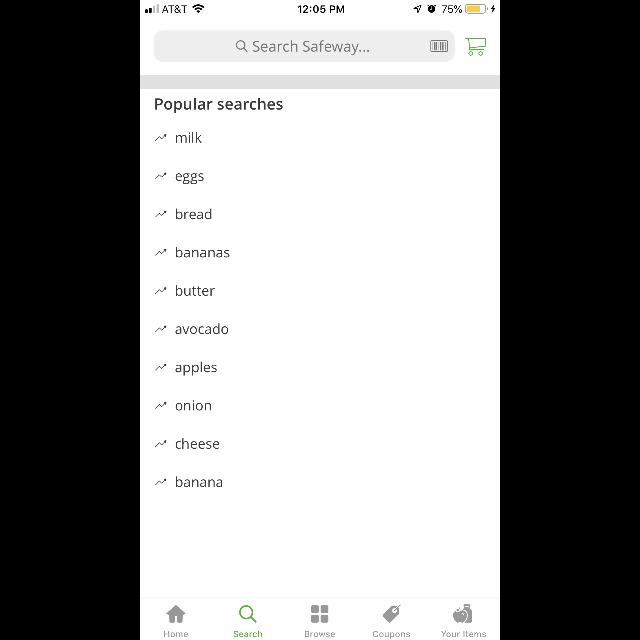icon: (466, 38, 486, 56), (383, 604, 401, 622), (167, 606, 186, 622), (240, 606, 256, 622), (312, 606, 328, 622), (236, 40, 248, 51), (156, 134, 167, 142), (156, 172, 167, 180), (156, 440, 167, 448), (156, 364, 167, 371), (156, 211, 167, 217), (156, 250, 167, 256), (156, 288, 167, 294), (156, 326, 167, 332), (156, 402, 167, 408), (156, 479, 167, 485)
image: (453, 604, 472, 622), (430, 40, 448, 51)
input: (154, 30, 454, 61)
text: (156, 98, 282, 114), (253, 40, 369, 56), (177, 246, 230, 258), (176, 362, 217, 376), (176, 324, 228, 334), (176, 477, 222, 488), (176, 438, 220, 449), (176, 208, 212, 220), (176, 401, 212, 412), (177, 286, 216, 296), (176, 132, 202, 144), (176, 173, 204, 184), (372, 631, 410, 639), (442, 631, 486, 637), (305, 631, 335, 637), (234, 631, 262, 637), (164, 631, 188, 637)
uppertaskbar: (140, 0, 500, 14)
